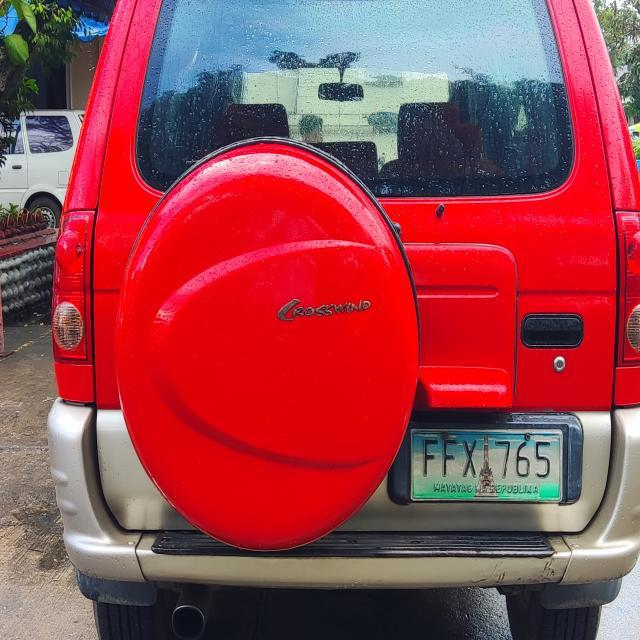LicensePlate: (394, 424, 575, 509)
